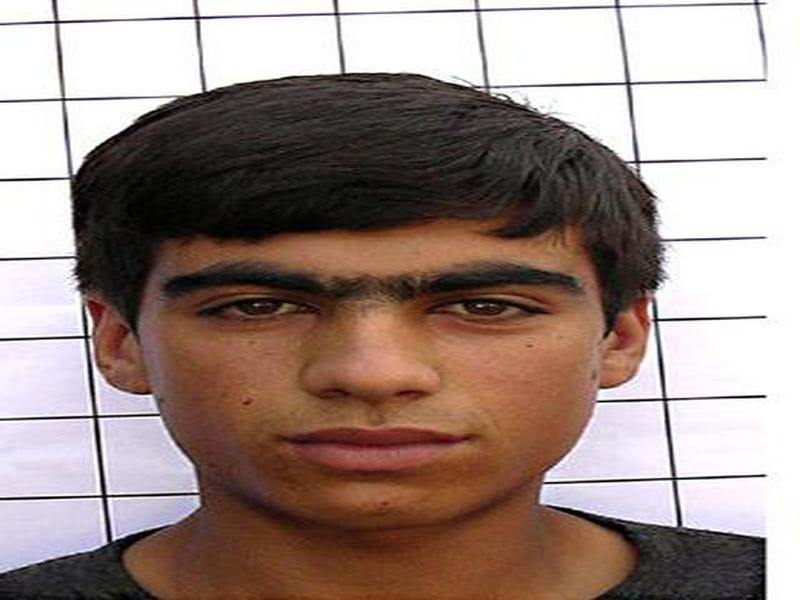without_mask: (129, 185, 610, 538)
